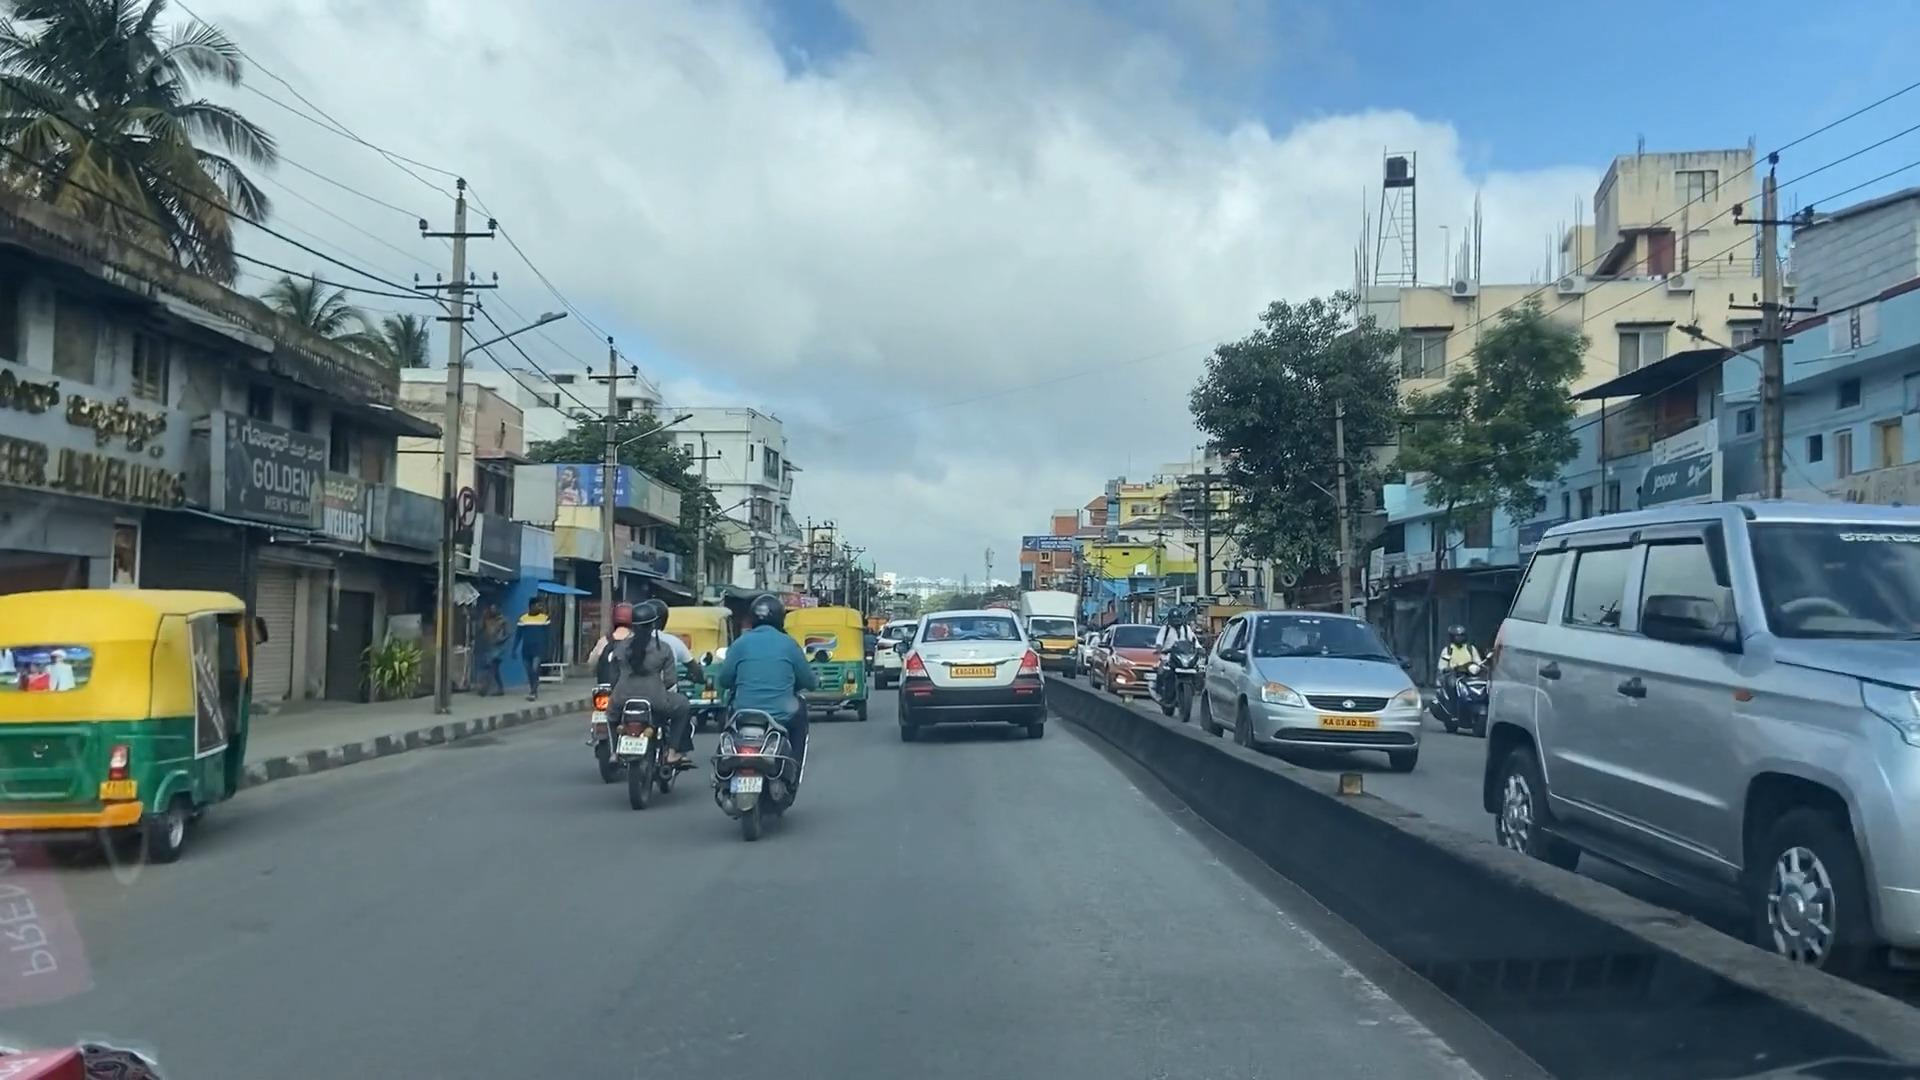LMV: (0, 592, 252, 852), (901, 607, 1047, 736), (731, 593, 796, 840), (617, 601, 680, 799)
